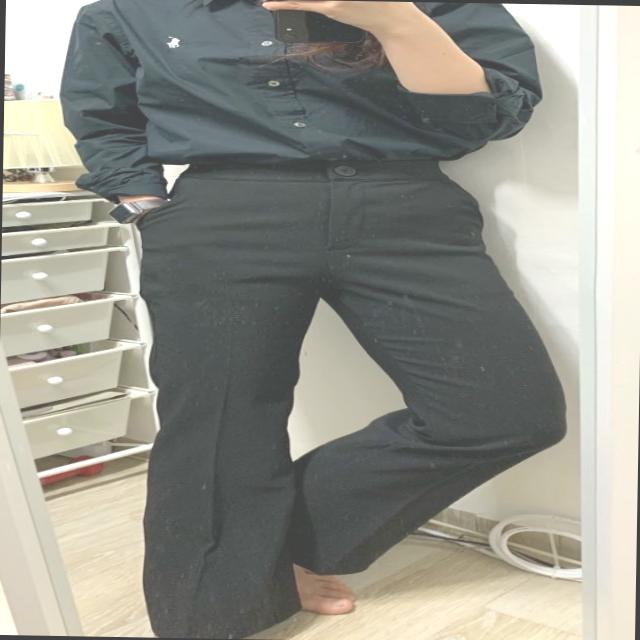shirt: (58, 0, 543, 205)
slacks: (130, 152, 570, 640)
